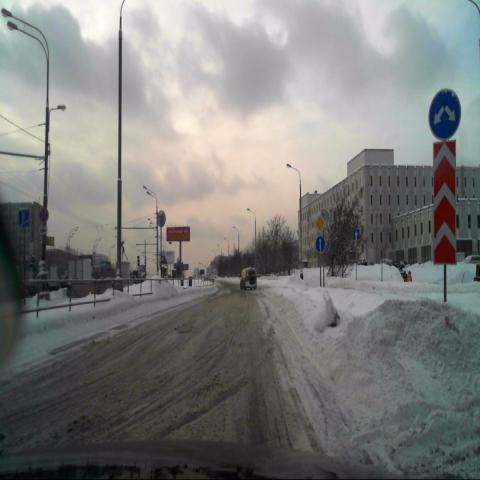6_6: (18, 207, 30, 229)
